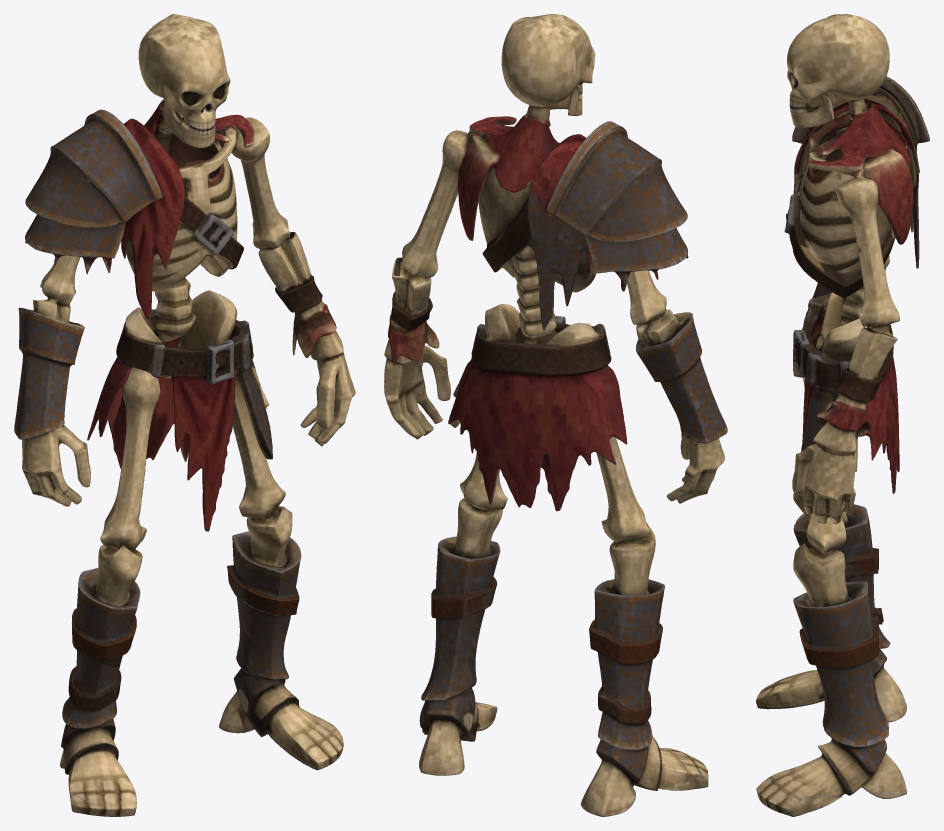
Rendered from e_undead_warrior_skeleton.glb.
3 views of the same model, side by side, from view 1: azimuth 30°, elevation 25°; view 2: azimuth 150°, elevation 25°; view 3: azimuth 270°, elevation 25° (orthographic). The views are drawn at different scales.
Bounding box in the file's own units: 0.8921 × 1.9 × 0.4063.
Materials: 1 (1 with a texture image).
